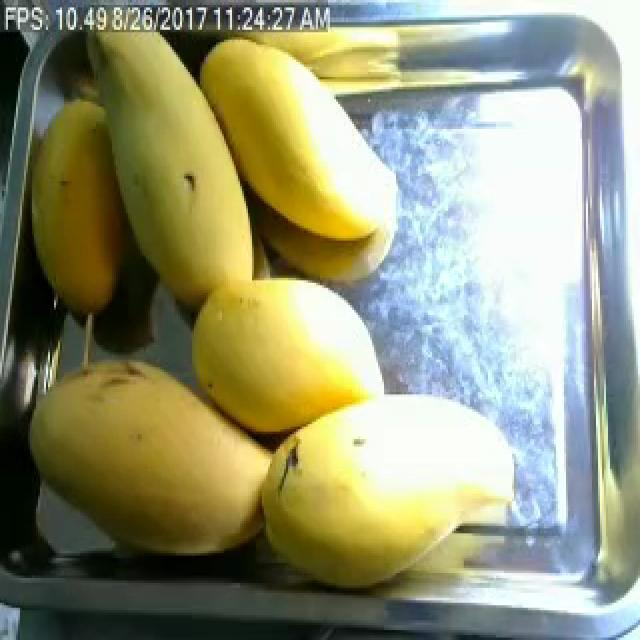fruit: (18, 30, 290, 332), (16, 335, 278, 568), (246, 392, 480, 608), (158, 250, 396, 459), (190, 22, 404, 253), (16, 74, 166, 330)
